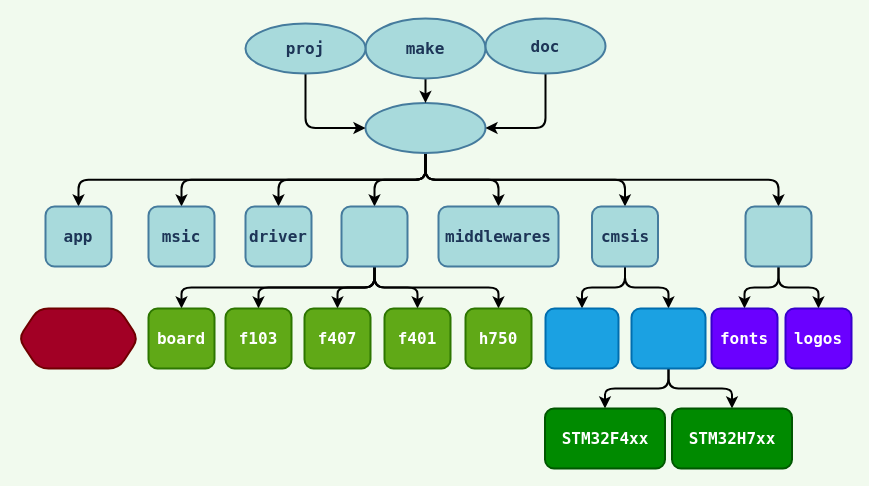
This 869x486 diagram has some shape labels left out. The shapes that lost their labels are listed below. From the top down, each one's centre as x and y in pixels, then its label:
At [425,128]: "src".
At [374,236]: "mcu".
At [778,236]: "res".
At [78,338]: "*.c *.h".
At [581,338]: "Include".
At [668,338]: "Device".
